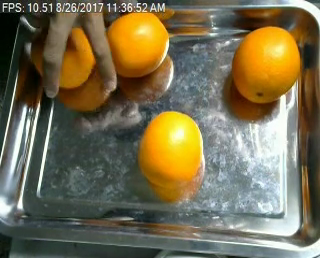Orange: (231, 25, 300, 102), (137, 109, 204, 187)
